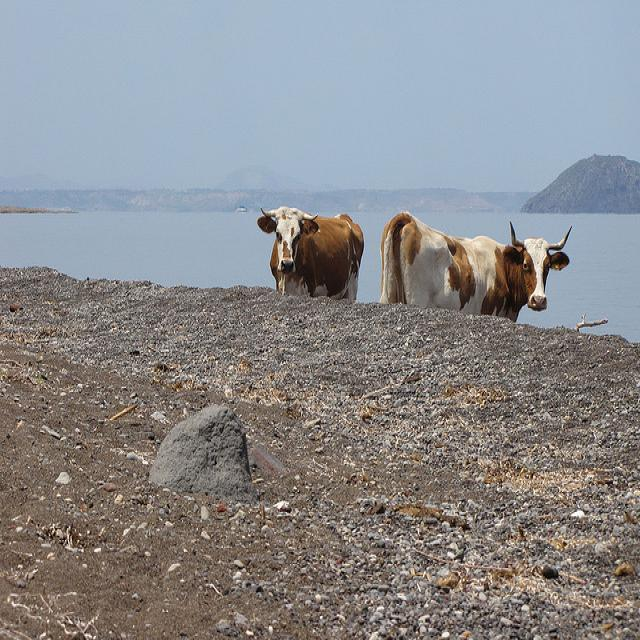cow: (381, 213, 571, 316), (252, 200, 364, 300)
